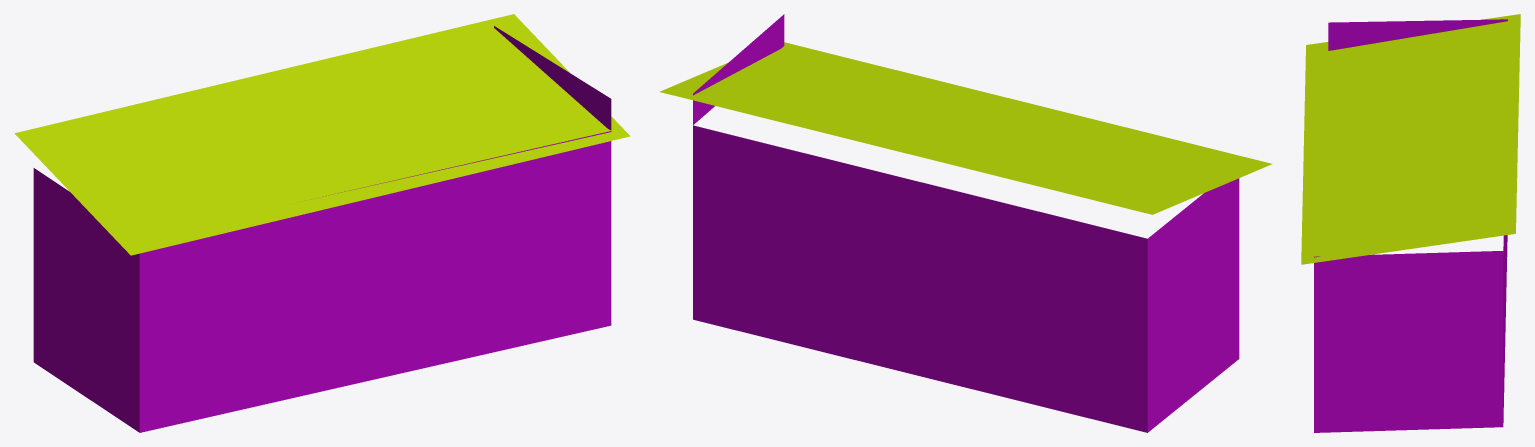
Rendered from niv_135.glb.
3 renders of one model, left to right at view 1: azimuth 30°, elevation 25°; view 2: azimuth 150°, elevation 25°; view 3: azimuth 270°, elevation 25°, orthographic. The views are drawn at different scales.
Visible parts, largest first — view 1: niv_135; view 2: niv_135; view 3: niv_135.
Part boxes in pixels (left/top/right/bottom): niv_135: left=14, top=14, right=630, bottom=432; niv_135: left=659, top=14, right=1271, bottom=432; niv_135: left=1301, top=14, right=1520, bottom=432.
Size of the model in its own units: 16.33 by 7.09 by 6.87.
